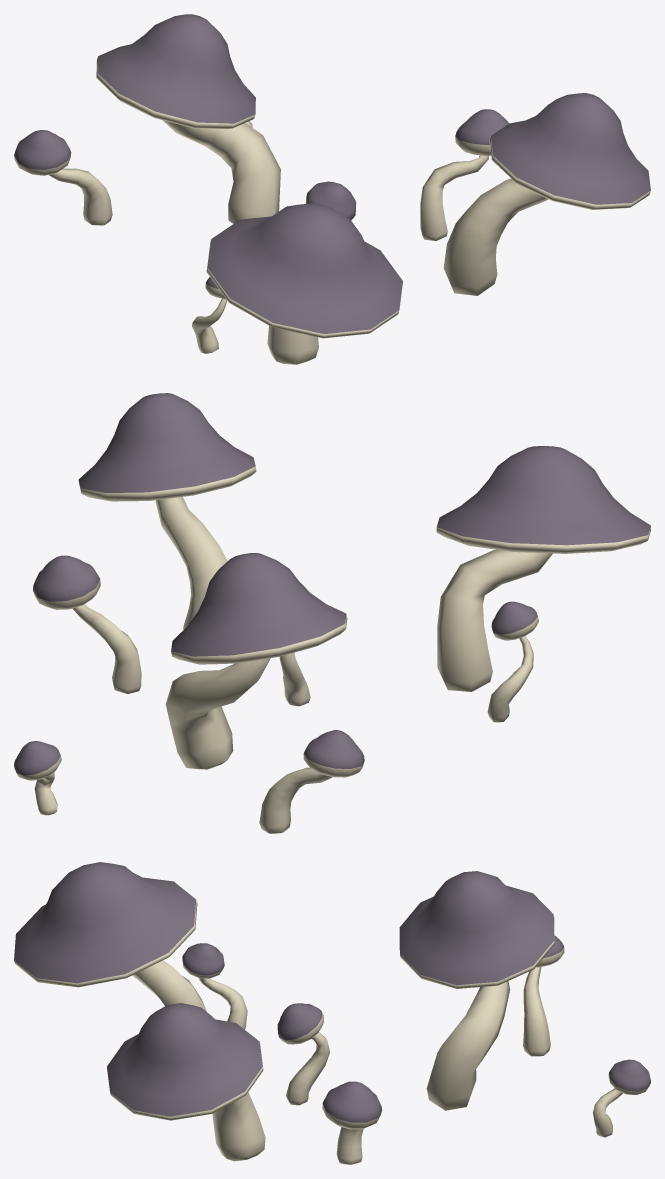
The model's file is P_mushroom_05.fbx.
3 renders of one model, top to bottom at view 1: azimuth 30°, elevation 25°; view 2: azimuth 150°, elevation 25°; view 3: azimuth 270°, elevation 25°, orthographic. The views are drawn at different scales.
Visible parts, largest first — view 1: lod1; view 2: lod1; view 3: lod1.
Boxes of the visible parts, <box> form: lod1: <box>14,14,650,364</box>; lod1: <box>14,393,650,833</box>; lod1: <box>14,862,650,1164</box>.
Bounding box in the file's own units: 115 × 52.66 × 145.
Materials: 1 (1 with a texture image).
